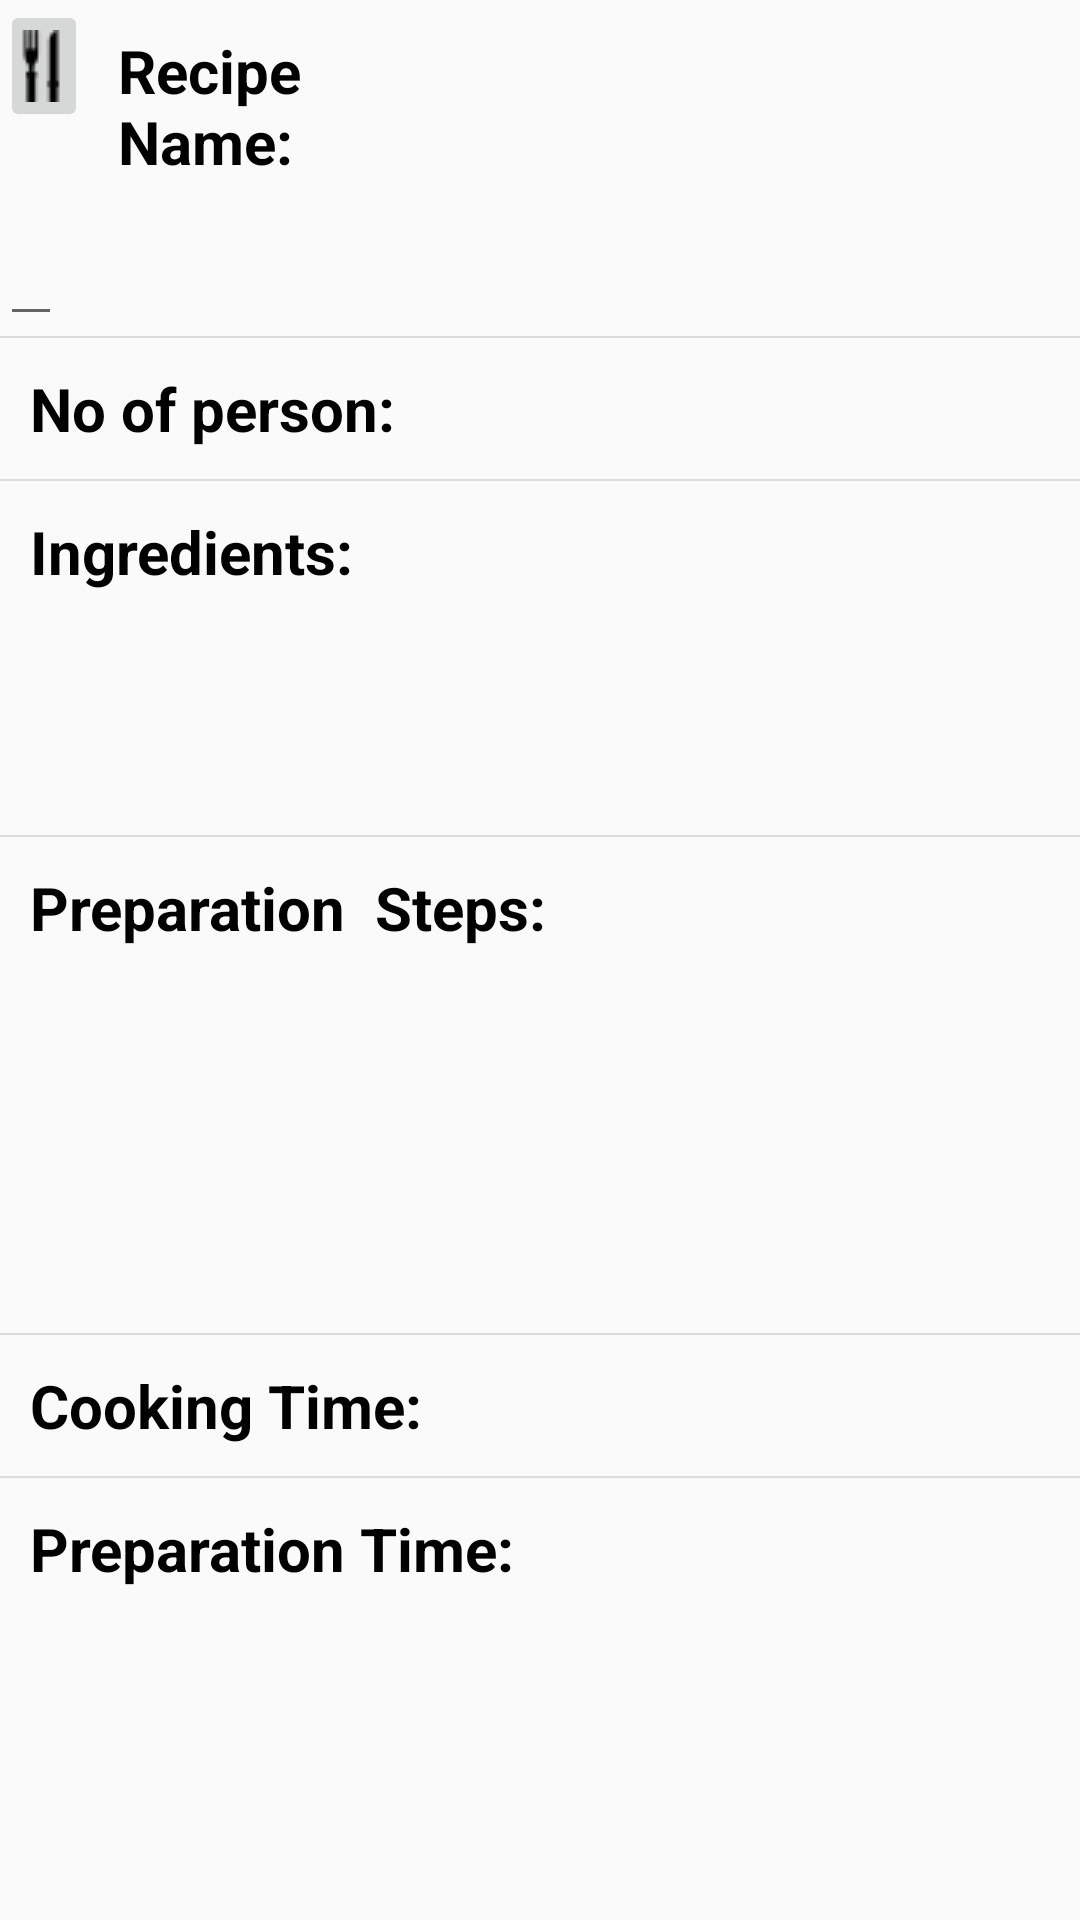

Icon click points for this 1080 x 1920 phone screenshot, format (x=x, y=y):
dish: (x=44, y=66)
